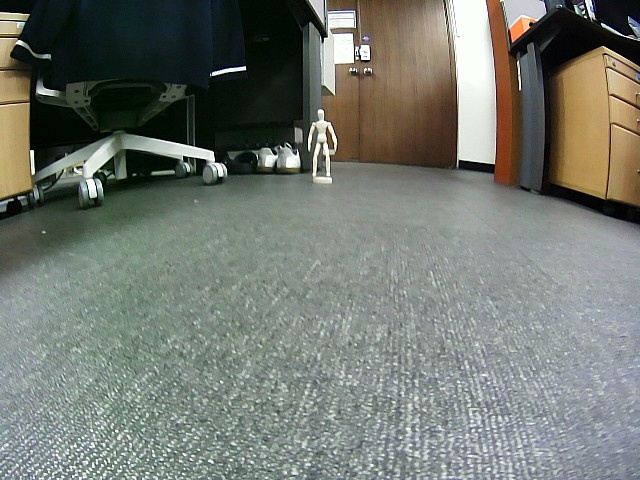person: (308, 110, 338, 178)
